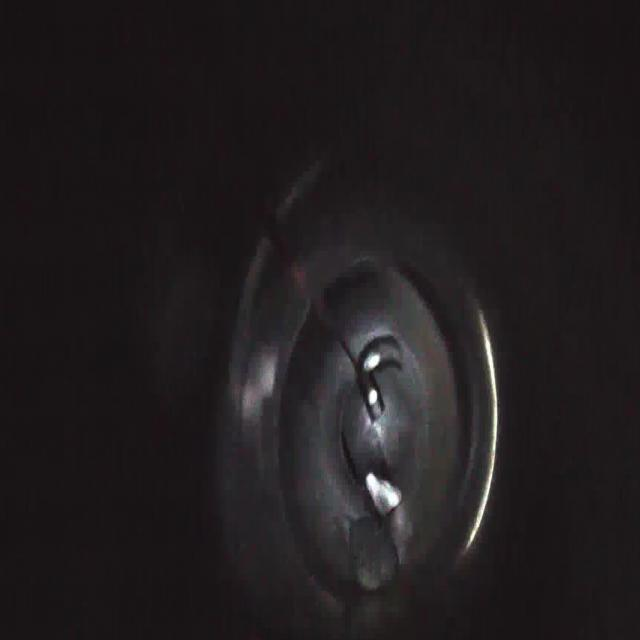impurity: (342, 512, 402, 597), (363, 466, 407, 516)
